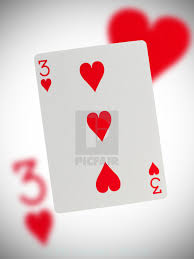two of hearts: (34, 40, 168, 212)
